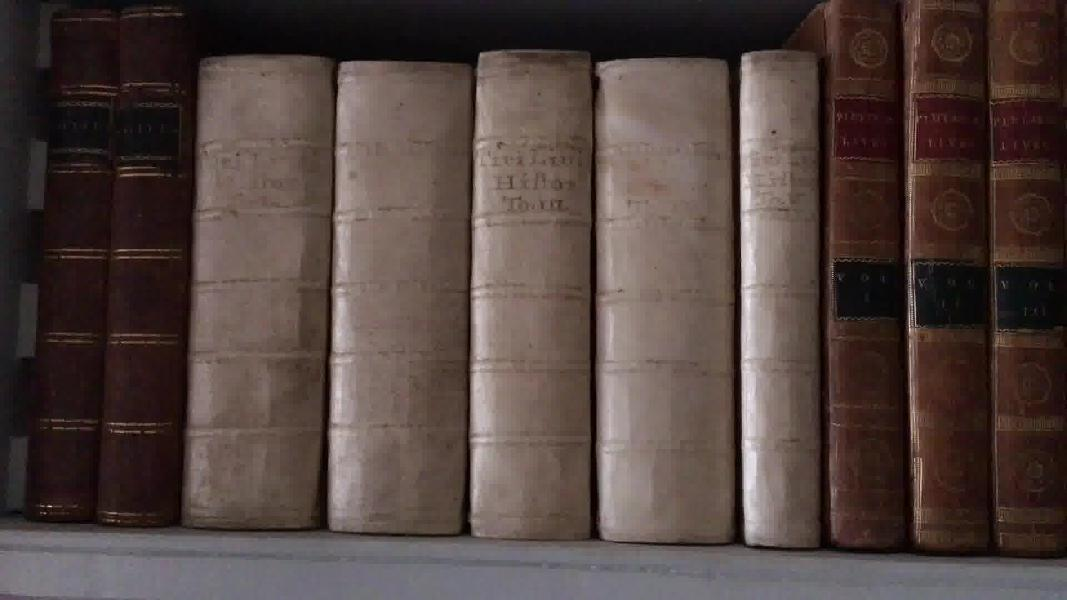Kk4-1_2: (20, 1, 188, 528)
Kk4-3_7: (171, 35, 836, 571)
Kk4-8_13: (808, 1, 1067, 564)
